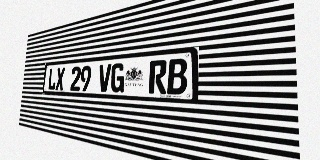2: (70, 66, 81, 91)
9: (80, 65, 92, 91)
B: (167, 58, 188, 95)
G: (110, 63, 125, 93)
L: (48, 68, 57, 90)
R: (149, 60, 167, 94)
V: (98, 64, 111, 92)
X: (55, 67, 65, 90)
